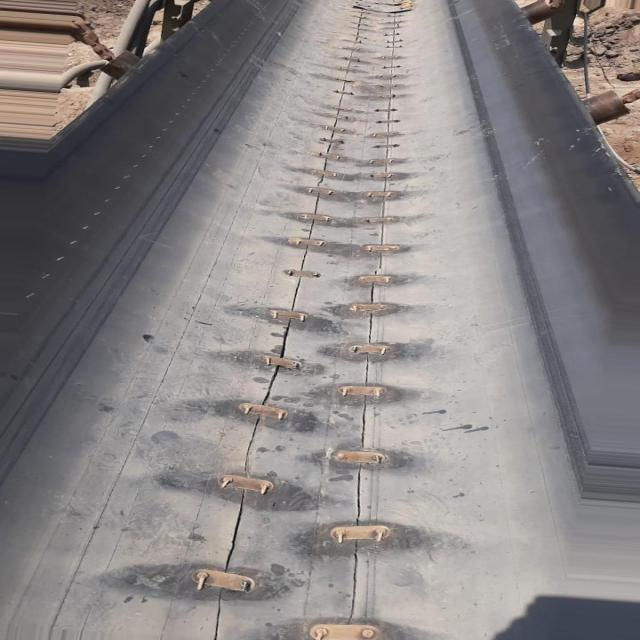Roller: (517, 2, 634, 120), (104, 45, 165, 78)
patch work: (147, 0, 454, 640)
